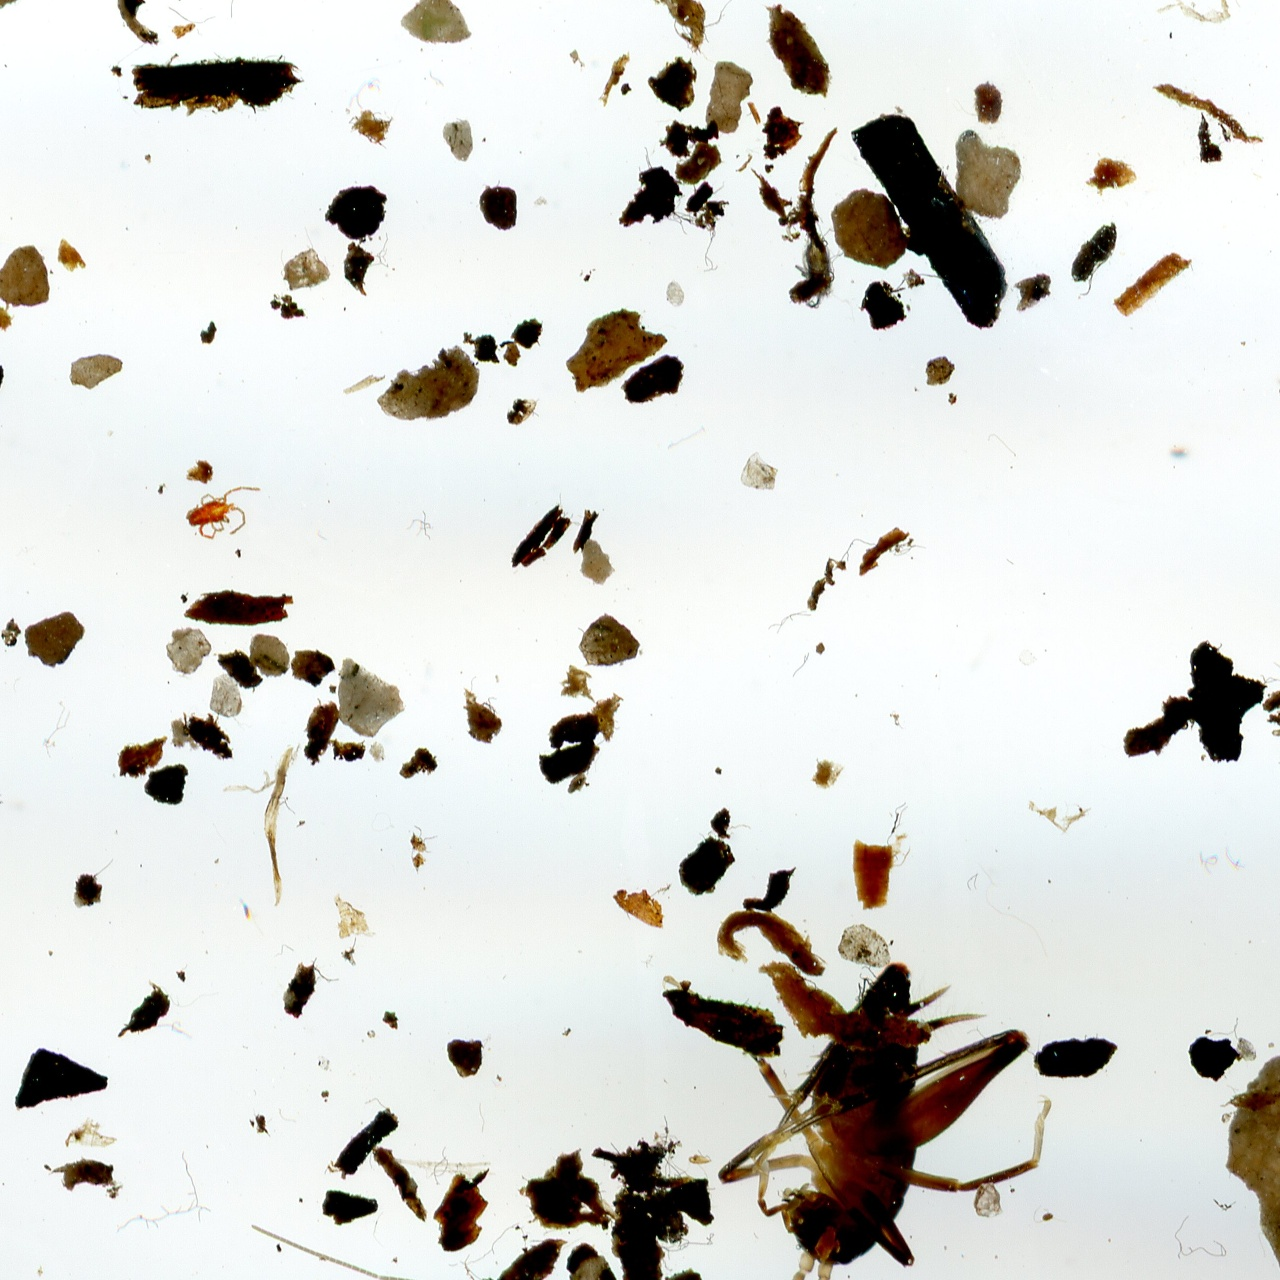arthropod: (176, 856, 1136, 1280), (184, 482, 264, 543)
